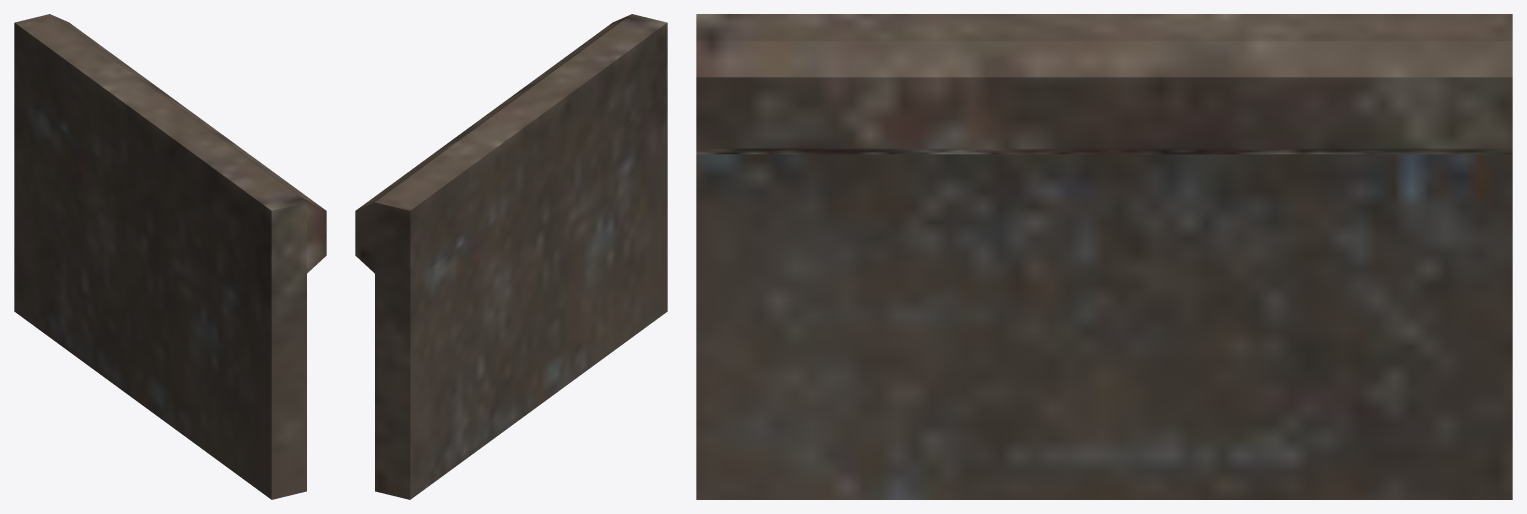
File: BalconyWall_01.FBX
3 views of the same model, side by side, from view 1: azimuth 30°, elevation 25°; view 2: azimuth 150°, elevation 25°; view 3: azimuth 270°, elevation 25° (orthographic). The views are drawn at different scales.
Visible parts, largest first — view 1: BalconyWall_01; view 2: BalconyWall_01; view 3: BalconyWall_01.
Boxes of the visible parts, x1,y1,x2,y2 form: BalconyWall_01: [14, 14, 326, 499]; BalconyWall_01: [355, 14, 667, 499]; BalconyWall_01: [696, 14, 1512, 499].
Bounding box in the file's own units: 22.71 × 115 × 185.
